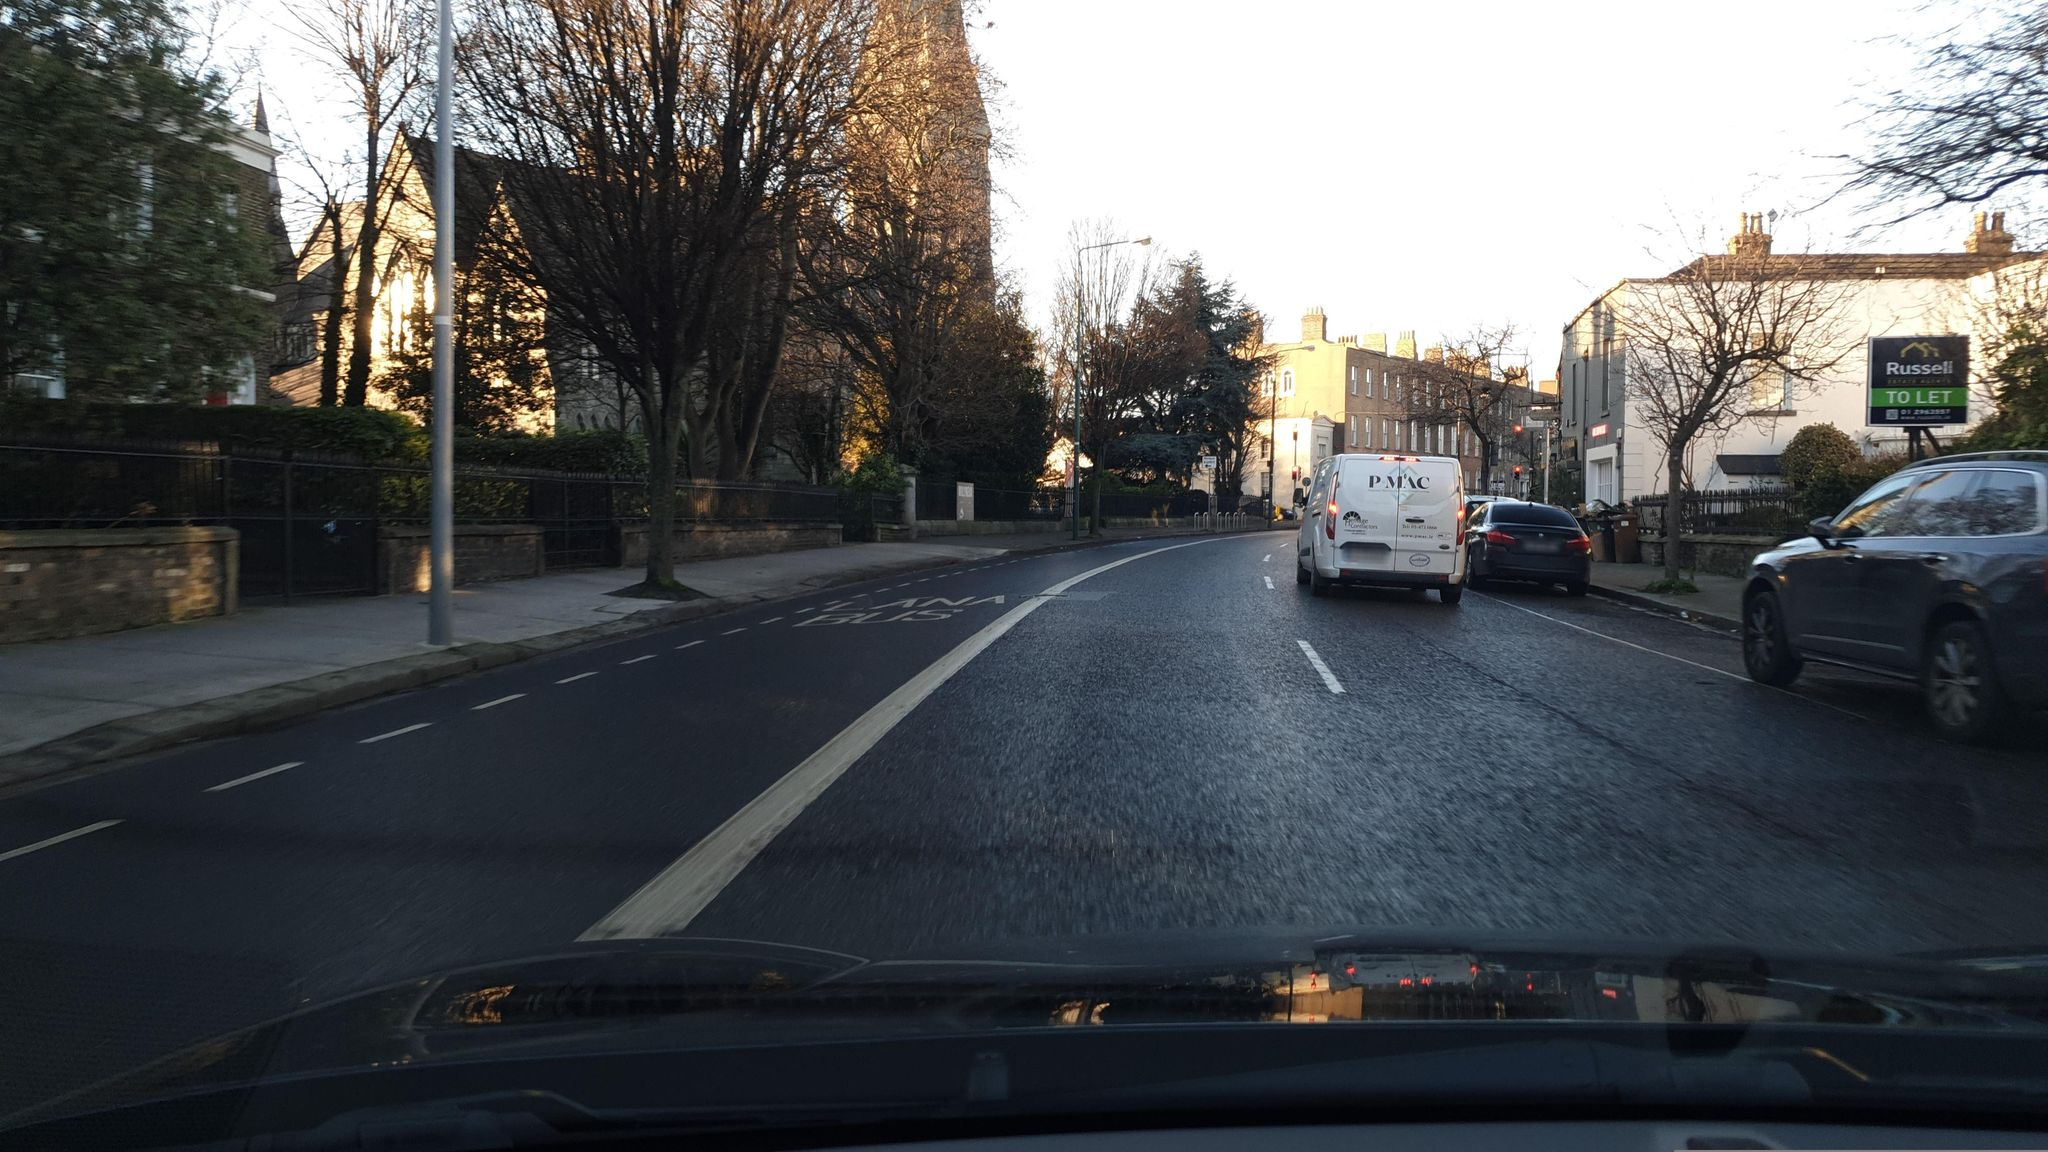property sign: (1860, 312, 1973, 437)
